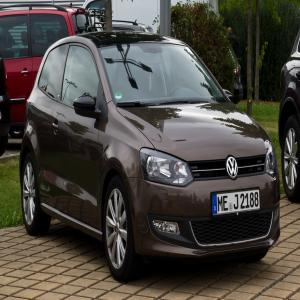Vehicle-registration-plate: (208, 179, 266, 226)
